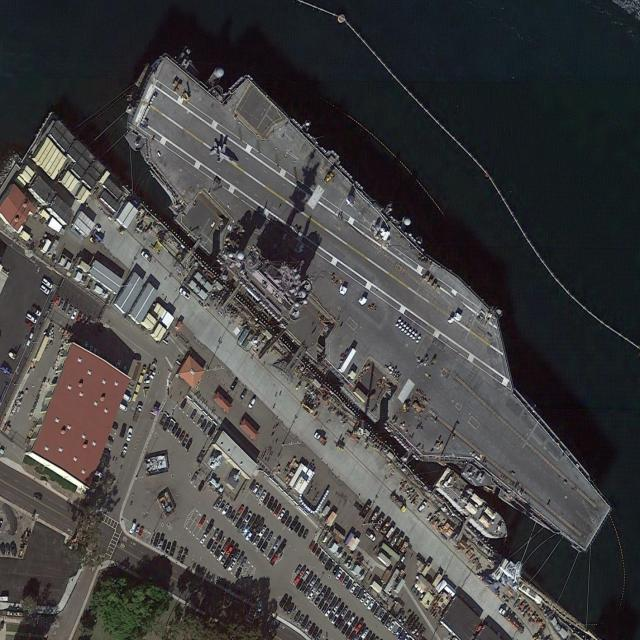large-vehicle: (498, 607, 525, 635), (132, 366, 147, 402), (390, 494, 408, 513), (131, 404, 143, 423), (365, 528, 377, 543), (39, 283, 51, 297), (41, 276, 53, 289), (119, 391, 132, 402), (248, 396, 258, 410), (26, 314, 38, 324), (32, 305, 42, 317), (116, 403, 128, 412), (144, 379, 151, 384)
plane: (208, 138, 242, 175)
ship: (93, 10, 640, 603), (430, 461, 513, 554)
small-vehicle: (314, 431, 327, 446), (241, 523, 251, 539), (248, 530, 258, 546), (213, 495, 223, 511), (179, 287, 191, 300), (141, 250, 152, 264), (119, 423, 128, 440), (244, 527, 254, 542), (417, 500, 427, 515), (270, 551, 279, 567), (225, 505, 234, 521), (196, 449, 205, 465), (169, 424, 179, 438), (289, 518, 299, 532), (348, 613, 358, 627), (235, 516, 244, 531), (265, 547, 274, 562), (198, 514, 207, 529), (159, 413, 168, 428), (162, 417, 171, 432), (279, 593, 288, 608), (237, 521, 247, 534), (204, 521, 214, 534), (227, 510, 236, 524), (259, 541, 268, 555), (203, 423, 212, 437), (177, 430, 186, 444), (227, 560, 236, 574), (321, 554, 330, 568), (220, 504, 230, 516), (120, 445, 128, 460), (126, 427, 134, 442), (297, 524, 305, 539), (277, 509, 287, 521), (334, 598, 342, 613), (255, 539, 264, 552), (212, 528, 221, 541), (230, 547, 239, 560), (189, 408, 198, 421), (217, 500, 226, 513), (370, 603, 379, 616), (363, 595, 372, 608), (356, 588, 365, 601), (239, 389, 248, 402), (222, 538, 230, 552), (210, 541, 218, 555), (190, 472, 198, 486), (214, 546, 222, 560), (235, 566, 243, 580), (129, 522, 137, 536), (157, 536, 165, 550), (325, 557, 333, 571), (388, 619, 396, 633), (324, 588, 332, 602), (248, 514, 258, 525), (225, 545, 234, 557), (232, 551, 241, 563), (239, 557, 248, 569), (232, 514, 241, 526), (179, 398, 188, 410), (120, 364, 129, 376), (223, 557, 232, 569), (358, 624, 367, 636), (340, 605, 349, 617), (230, 379, 239, 391), (244, 511, 253, 523), (280, 513, 289, 525), (273, 504, 282, 516), (334, 615, 343, 627), (306, 588, 315, 600), (5, 543, 12, 558), (236, 554, 244, 567), (199, 533, 207, 546), (197, 416, 205, 429), (273, 538, 281, 551), (173, 427, 181, 440), (181, 435, 189, 448), (185, 438, 193, 451), (137, 526, 145, 539), (350, 582, 358, 595), (153, 533, 161, 546), (297, 614, 305, 627), (287, 603, 295, 616), (325, 605, 333, 618), (330, 595, 338, 608), (24, 318, 34, 328), (104, 438, 115, 447), (380, 613, 389, 624), (355, 620, 364, 631), (340, 624, 349, 635), (266, 498, 275, 509), (337, 620, 346, 631), (167, 419, 174, 433), (62, 301, 69, 315), (385, 616, 392, 630), (330, 560, 337, 574), (253, 535, 261, 547), (200, 419, 208, 431), (278, 542, 286, 554), (206, 538, 214, 550), (255, 486, 263, 498), (220, 553, 228, 565), (259, 490, 267, 502), (360, 592, 368, 604), (339, 571, 347, 583), (335, 569, 343, 581), (395, 625, 403, 637), (242, 507, 250, 519), (256, 521, 264, 533), (259, 525, 267, 537), (293, 611, 301, 623), (310, 575, 318, 587), (318, 599, 326, 611), (304, 585, 312, 597), (320, 585, 328, 597), (165, 541, 172, 554), (317, 583, 324, 596), (170, 543, 176, 558), (11, 543, 17, 558), (33, 493, 43, 502), (348, 630, 357, 640), (310, 628, 319, 638), (344, 610, 353, 620), (216, 532, 224, 543), (249, 480, 257, 491), (93, 470, 104, 478), (333, 565, 341, 576), (345, 627, 353, 638), (351, 617, 359, 628), (238, 504, 246, 515), (253, 517, 261, 528), (306, 572, 314, 583), (301, 618, 309, 629), (283, 600, 291, 611), (338, 602, 346, 613), (332, 614, 340, 625), (328, 610, 336, 621), (321, 603, 329, 614), (299, 582, 307, 593), (297, 579, 305, 590), (293, 575, 301, 586), (87, 344, 94, 356), (217, 550, 224, 562), (346, 578, 353, 590), (342, 575, 349, 587), (315, 547, 322, 559), (375, 606, 382, 618), (134, 524, 141, 536), (305, 622, 312, 634), (270, 502, 277, 514), (327, 592, 334, 604), (110, 422, 119, 431), (53, 296, 61, 306), (311, 544, 319, 554), (302, 571, 310, 581), (198, 480, 205, 491), (82, 341, 89, 352), (71, 310, 78, 321), (57, 298, 64, 309), (115, 359, 122, 370), (252, 484, 259, 495), (368, 600, 375, 611), (353, 586, 360, 597), (309, 540, 316, 551), (378, 610, 385, 621), (263, 529, 270, 540), (263, 494, 270, 505), (295, 564, 302, 575), (308, 624, 315, 635), (294, 522, 301, 533), (313, 581, 320, 592), (267, 532, 273, 544), (76, 312, 82, 324), (303, 528, 309, 540), (314, 596, 321, 606), (81, 315, 87, 326), (67, 306, 73, 317), (319, 551, 325, 562), (300, 567, 306, 578), (286, 516, 292, 527), (258, 600, 263, 613), (86, 316, 91, 328), (92, 347, 97, 357)
